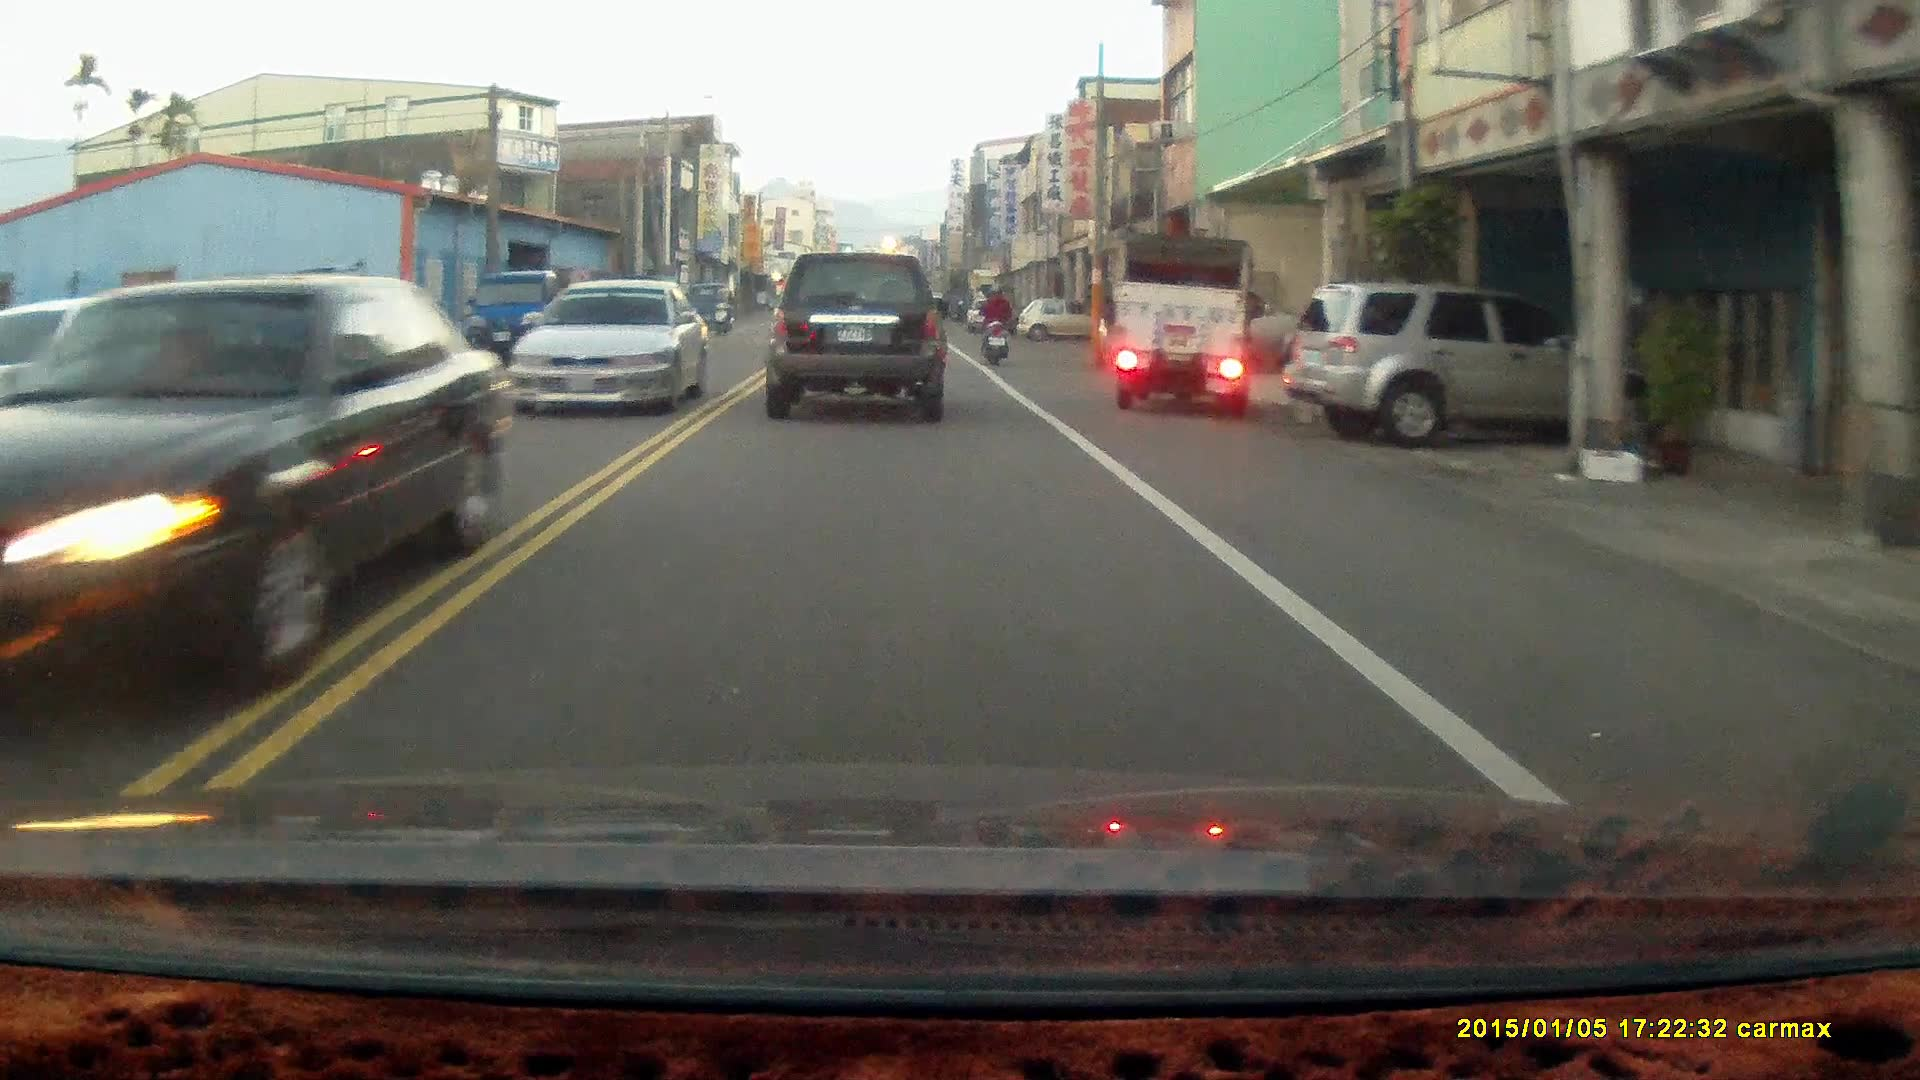rider: (976, 282, 1013, 368), (710, 283, 737, 337)
vehicle: (1, 273, 517, 696), (1290, 279, 1585, 446), (766, 254, 949, 425), (513, 277, 705, 417), (1113, 232, 1255, 411), (464, 271, 601, 387), (1019, 294, 1090, 347)
